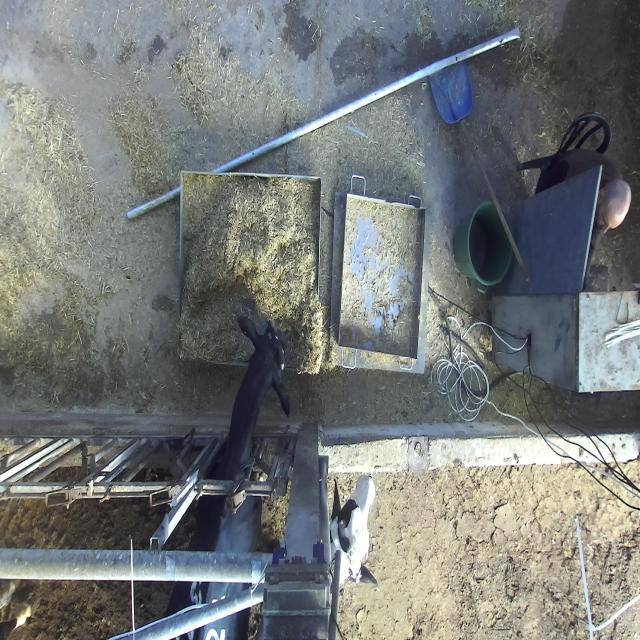cow: (236, 316, 291, 418), (329, 481, 379, 593)
